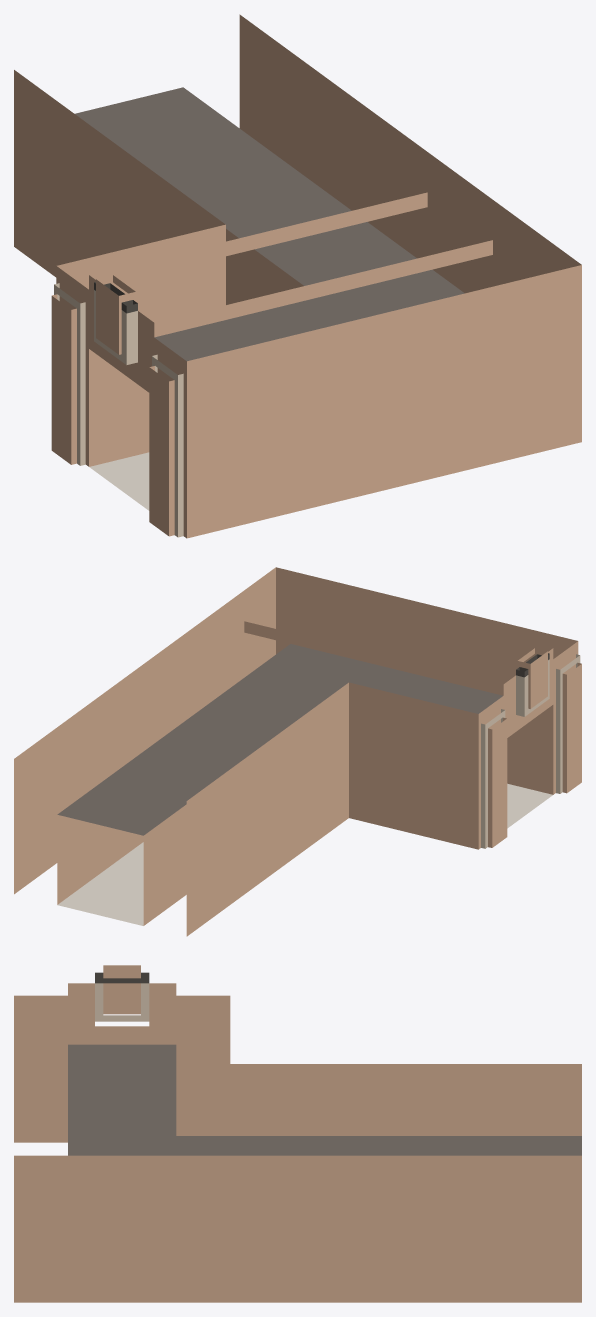
Rendered from dogleg_corridor.dae.
The picture shows the model from 3 angles, top to bottom: view 1: azimuth 30°, elevation 25°; view 2: azimuth 150°, elevation 25°; view 3: azimuth 270°, elevation 25°; orthographic projection. The views are drawn at different scales.
Visible parts, largest first — view 1: $dummy_node (×4); view 2: $dummy_node (×4); view 3: $dummy_node (×3).
Part boxes in pixels (bbox=[...]): $dummy_node (×4): bbox=[14, 14, 581, 538]; $dummy_node (×4): bbox=[14, 567, 581, 936]; $dummy_node (×3): bbox=[14, 965, 581, 1302].
Size of the model in its own units: 14.5 by 7 by 21.
